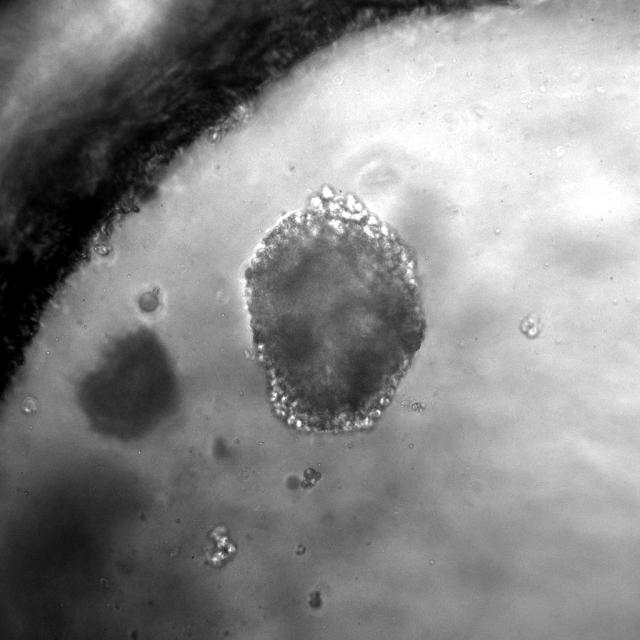organoid: (246, 185, 424, 431), (78, 327, 178, 440), (203, 524, 237, 567), (138, 287, 160, 312), (520, 314, 542, 338), (300, 467, 321, 488), (21, 396, 38, 414), (308, 590, 322, 609)
